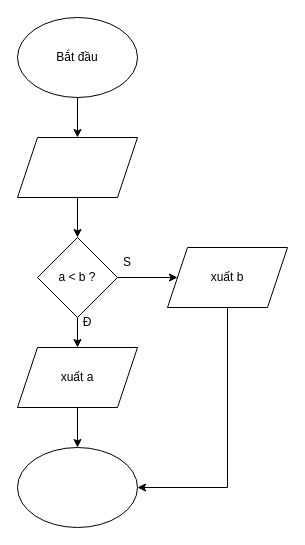
The diagram is 305 pixels wide and 545 high, and some of its shapes have lost their labels. The box of each missing label's shape, as (x1, y1, x2, y2) in pixels:
kết thúc: (16, 446, 138, 528)
Nhập a, b: (16, 136, 138, 198)
